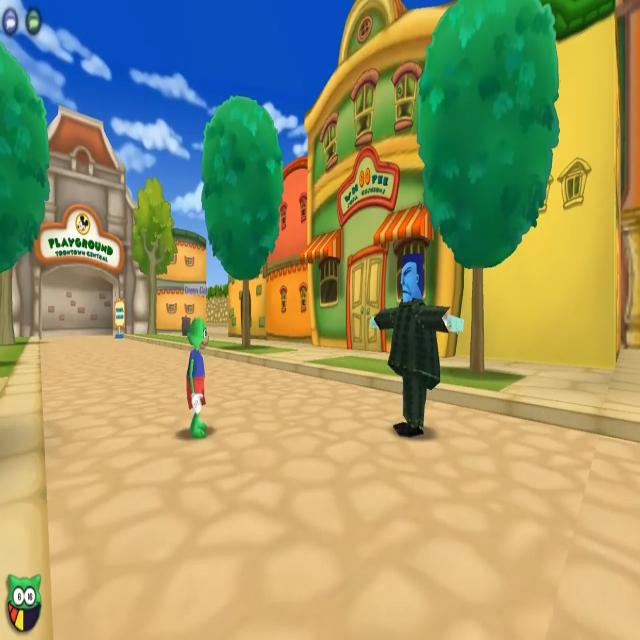shortchange: (366, 255, 465, 448)
